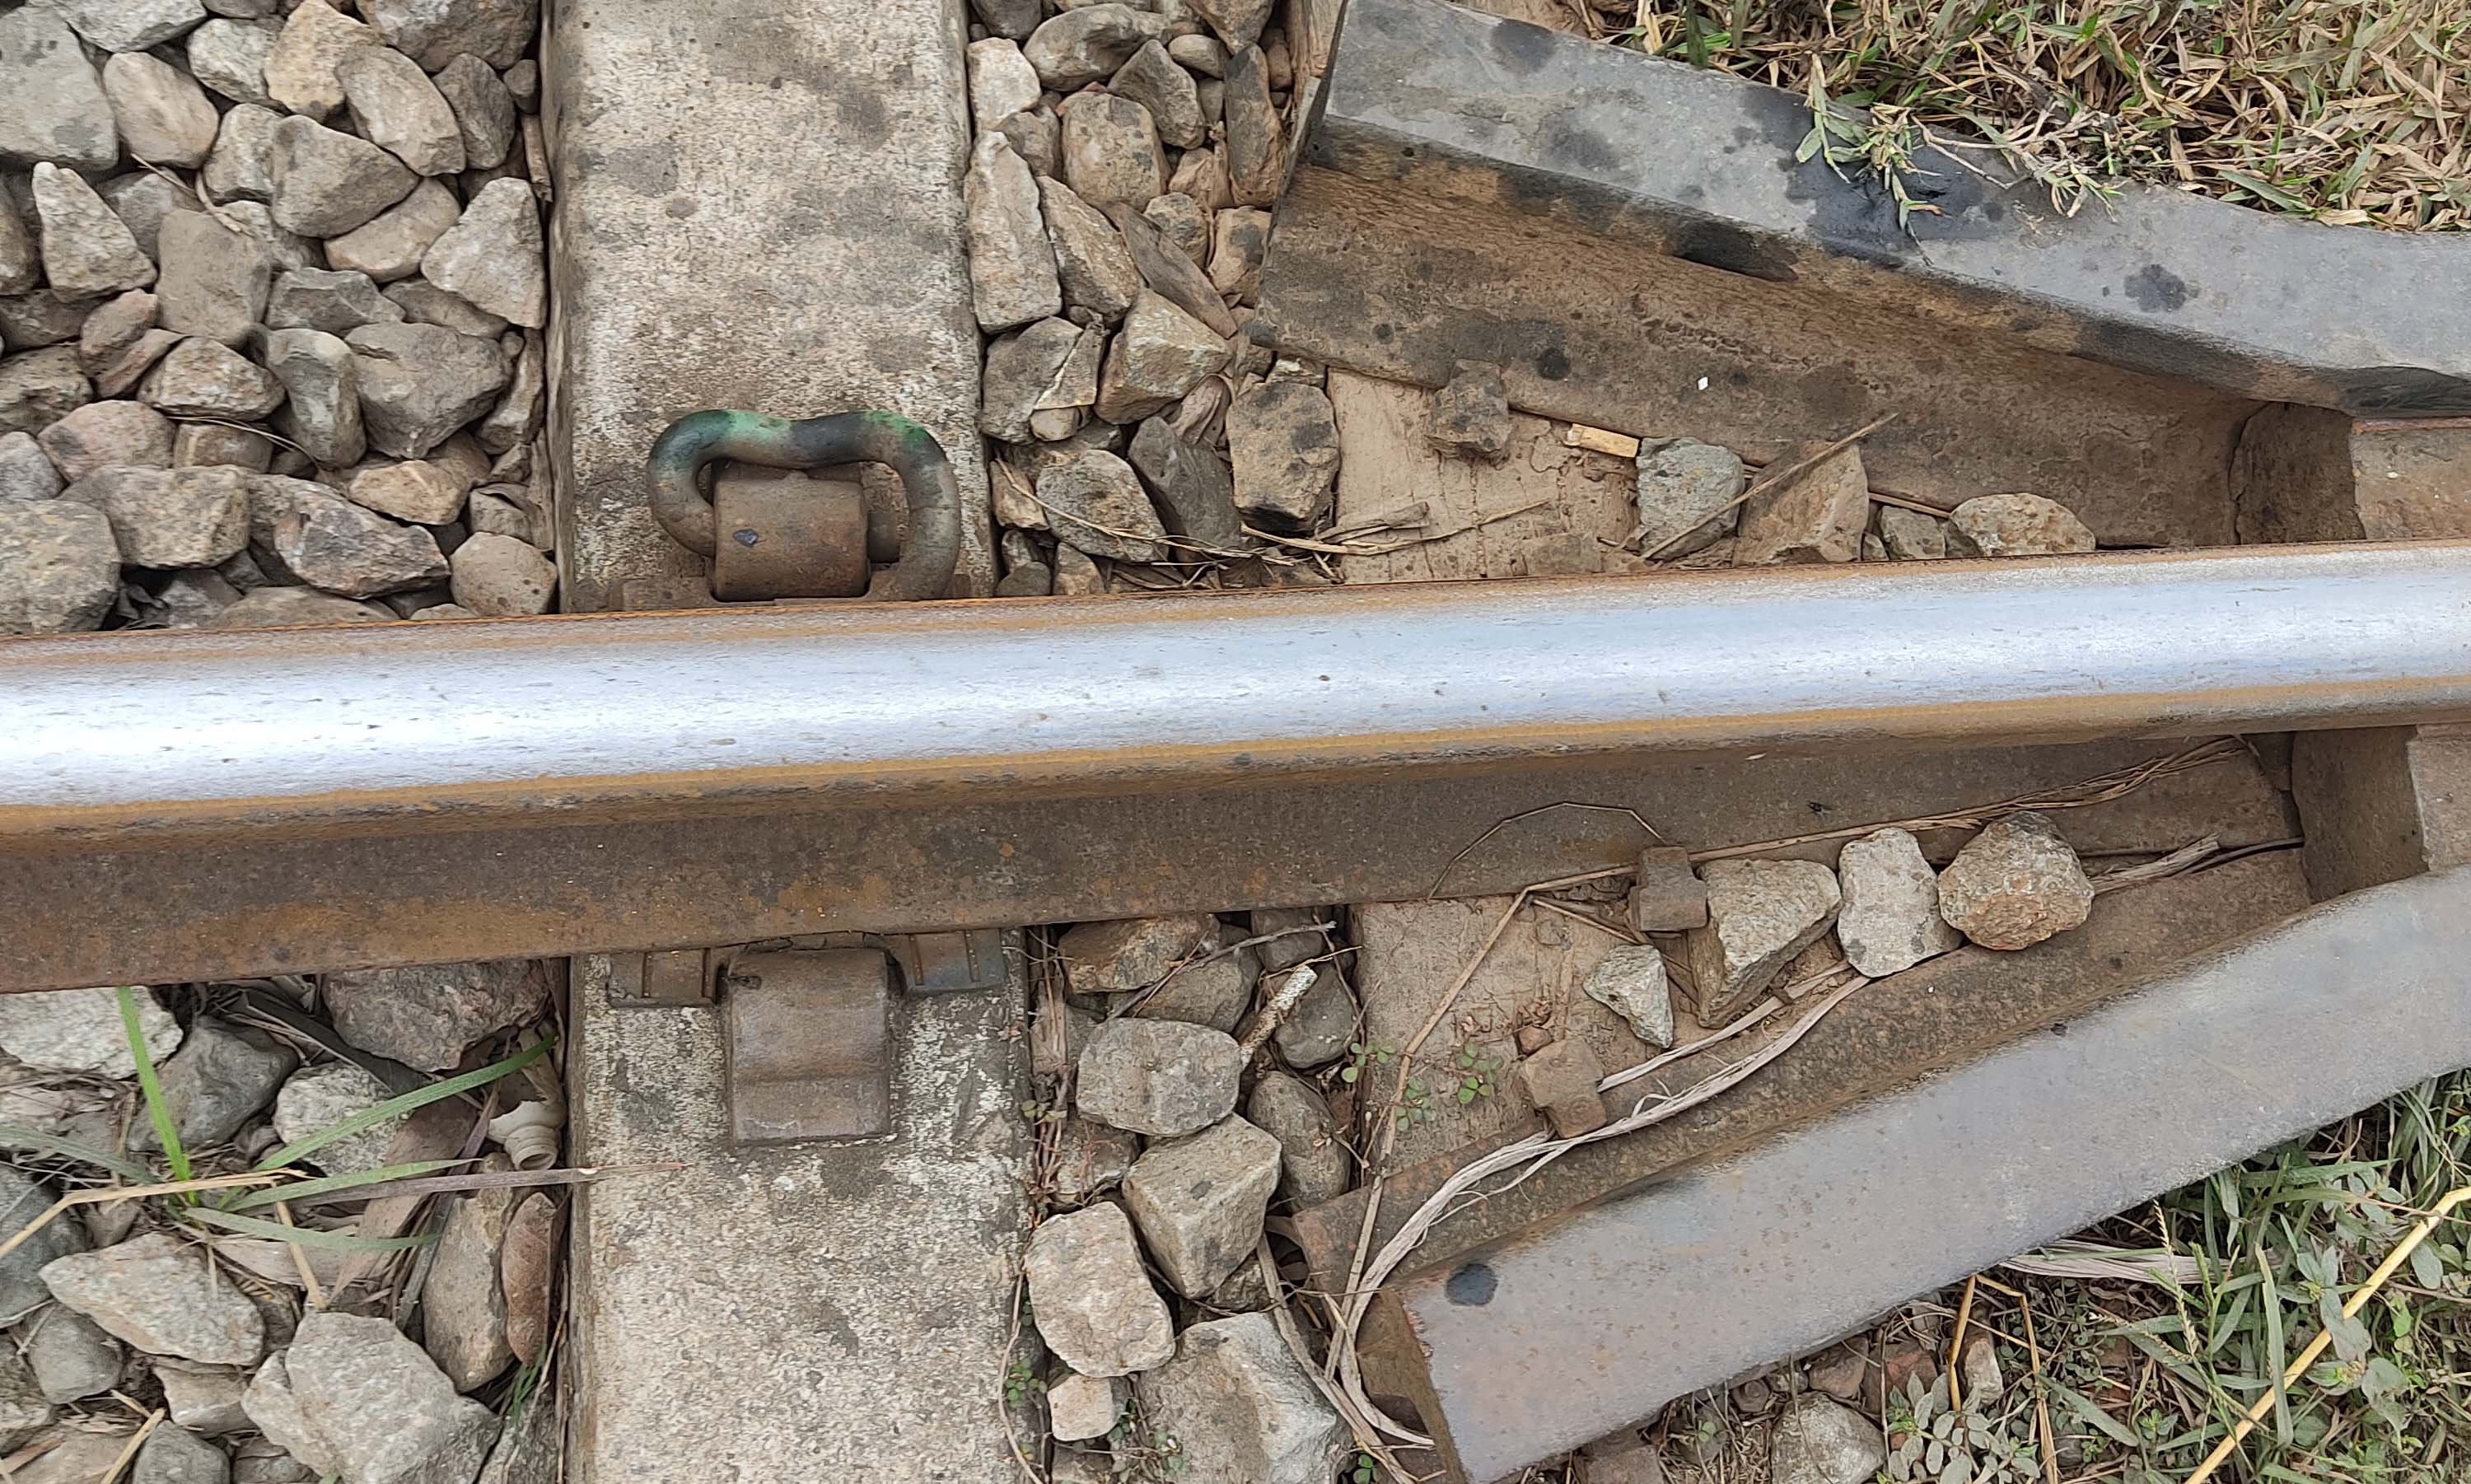error1: (625, 302, 1024, 628), (664, 836, 985, 1223)
